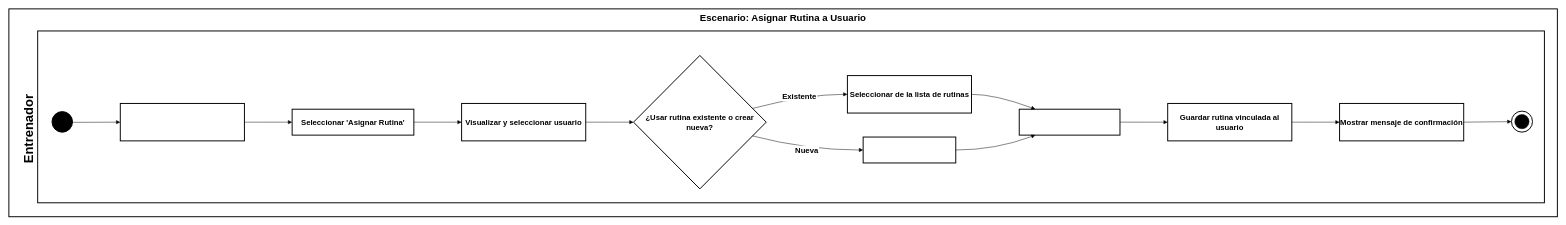
This 1566x225 diagram has some shape labels left out. The shapes that lost their labels are listed below. From the top down, each one's box as (x1, y1, x2, y2) in pixels, then its label:
(120, 103, 245, 141): Acceder al dashboard de rutinas
(1019, 108, 1120, 135): Confirmar asignación
(862, 136, 956, 163): Crear nueva rutina
